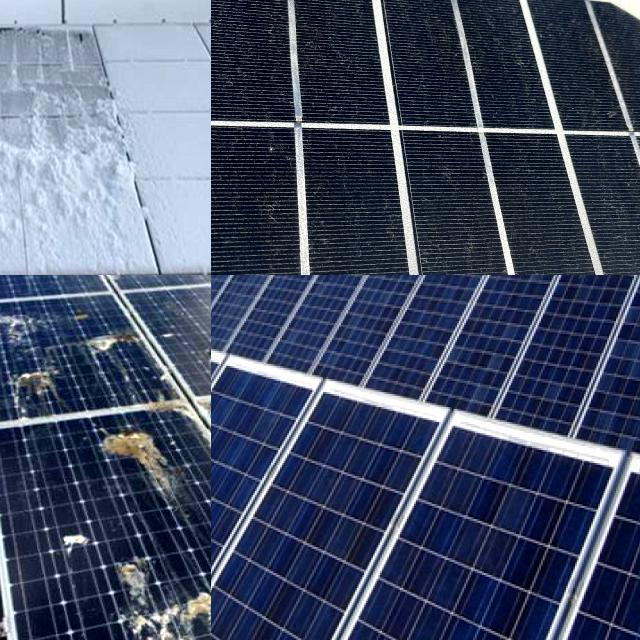bird: (110, 557, 211, 640), (81, 428, 192, 499), (80, 320, 163, 370), (3, 368, 77, 412), (0, 309, 44, 347), (47, 530, 107, 554)
crack: (211, 0, 640, 275), (211, 472, 627, 640), (211, 418, 451, 640)
panel: (54, 174, 144, 272), (0, 81, 116, 134), (135, 98, 208, 173), (160, 184, 211, 271), (0, 20, 94, 61), (0, 196, 54, 266), (0, 71, 63, 127), (0, 21, 61, 72), (0, 137, 49, 194), (106, 32, 197, 62), (0, 163, 59, 201), (0, 227, 42, 275), (0, 148, 31, 213), (0, 201, 26, 275), (0, 178, 61, 208), (0, 45, 45, 71), (0, 41, 30, 75), (0, 89, 19, 126), (0, 85, 23, 110)
